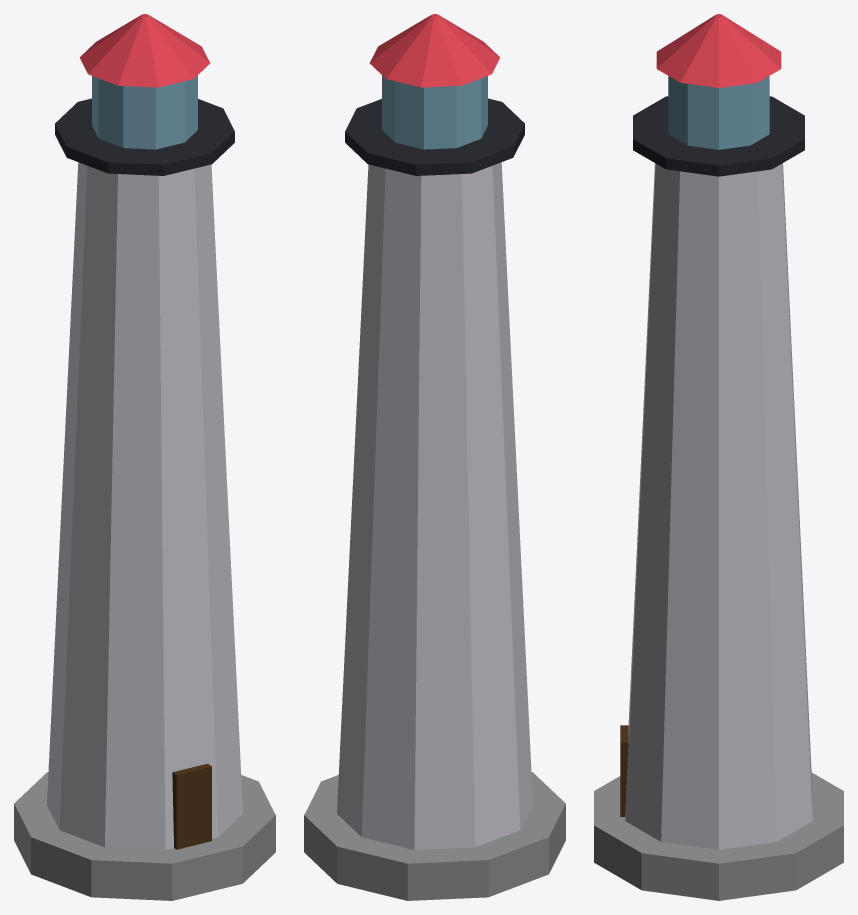
Rendered from lighthouse.glb.
The picture shows the model from 3 angles, left to right: view 1: azimuth 30°, elevation 25°; view 2: azimuth 150°, elevation 25°; view 3: azimuth 270°, elevation 25°; orthographic projection.
Visible parts, largest first — view 1: model; view 2: model; view 3: model.
Boxes of the visible parts, x1=… form: model: x1=14, y1=14, x2=275, y2=900; model: x1=304, y1=14, x2=565, y2=900; model: x1=594, y1=14, x2=843, y2=900.
Bounding box in the file's own units: 6.4 × 22.3 × 6.09.
